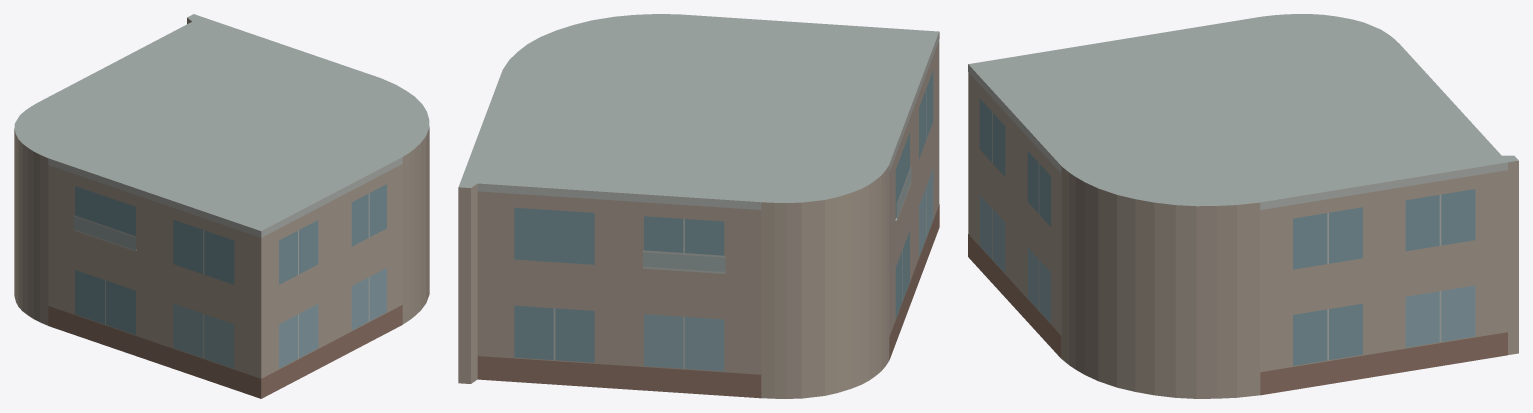
Rendered from survey-upis-32974124.glb.
3 views of the same model, side by side, from view 1: azimuth 30°, elevation 25°; view 2: azimuth 150°, elevation 25°; view 3: azimuth 270°, elevation 25° (orthographic). The views are drawn at different scales.
Visible parts, largest first — view 1: survey-upis-32974124.tmp; view 2: survey-upis-32974124.tmp; view 3: survey-upis-32974124.tmp.
Part boxes in pixels (left/top/right/bottom): survey-upis-32974124.tmp: left=14, top=14, right=429, bottom=398; survey-upis-32974124.tmp: left=458, top=14, right=939, bottom=398; survey-upis-32974124.tmp: left=968, top=14, right=1518, bottom=398.
Size of the model in its own units: 13.04 by 6.1 by 15.8.
